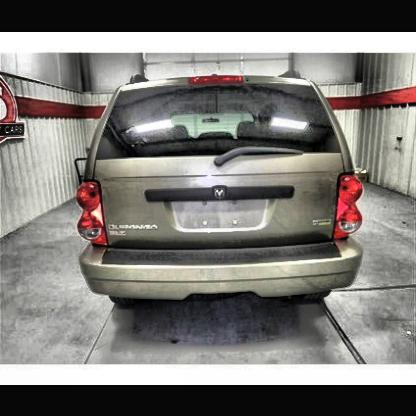Dodge Durango SUV 2007: (74, 69, 369, 315)
